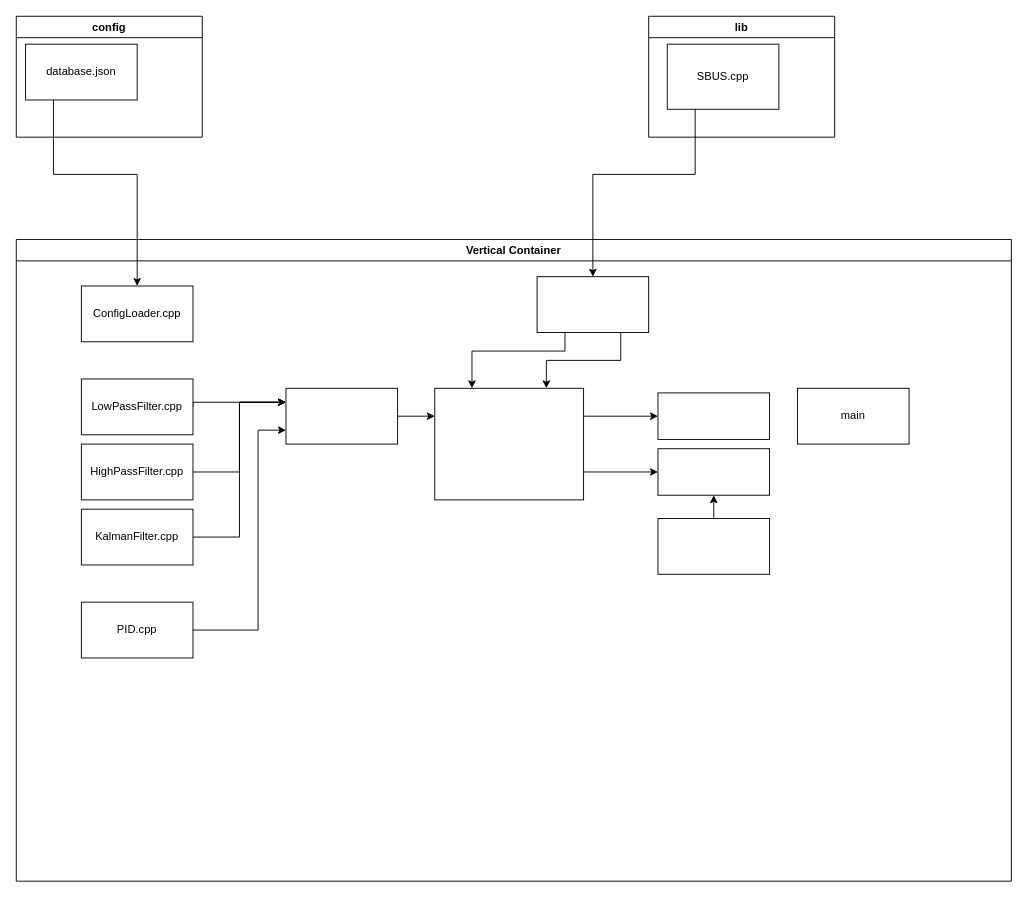
The diagram is 1028 pixels wide and 897 high, and some of its shapes have lost their labels. Each missing label, with the centre of its shape:
FBL.cpp: (x=509, y=443)
FilterHandler.cpp: (x=341, y=415)
LEDControl.cpp: (x=713, y=546)
SBUSReceiver.cpp: (x=592, y=304)
ServoHandler.cpp: (x=713, y=415)
Switch.cpp: (x=713, y=471)
